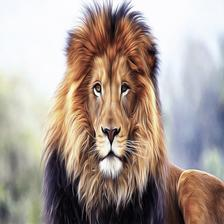Lion: (44, 6, 169, 224)
